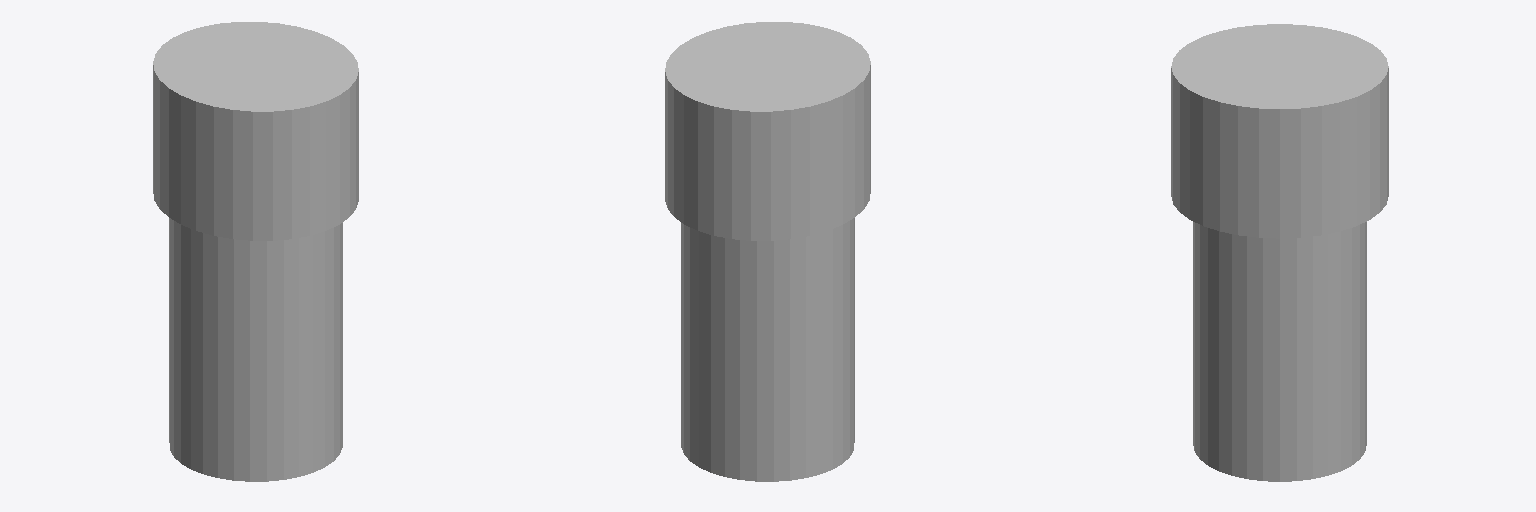
Rendered from Pills.obj.
The picture shows the model from 3 angles: view 1: azimuth 30°, elevation 25°; view 2: azimuth 150°, elevation 25°; view 3: azimuth 270°, elevation 25°; orthographic projection.
Parts seen in each view (by area): view 1: Cylinder; view 2: Cylinder; view 3: Cylinder.
Boxes of the visible parts, x1=… form: Cylinder: x1=153, y1=22, x2=358, y2=481; Cylinder: x1=665, y1=22, x2=870, y2=481; Cylinder: x1=1171, y1=24, x2=1388, y2=481.
Size of the model in its own units: 2.33 by 4.82 by 2.51.